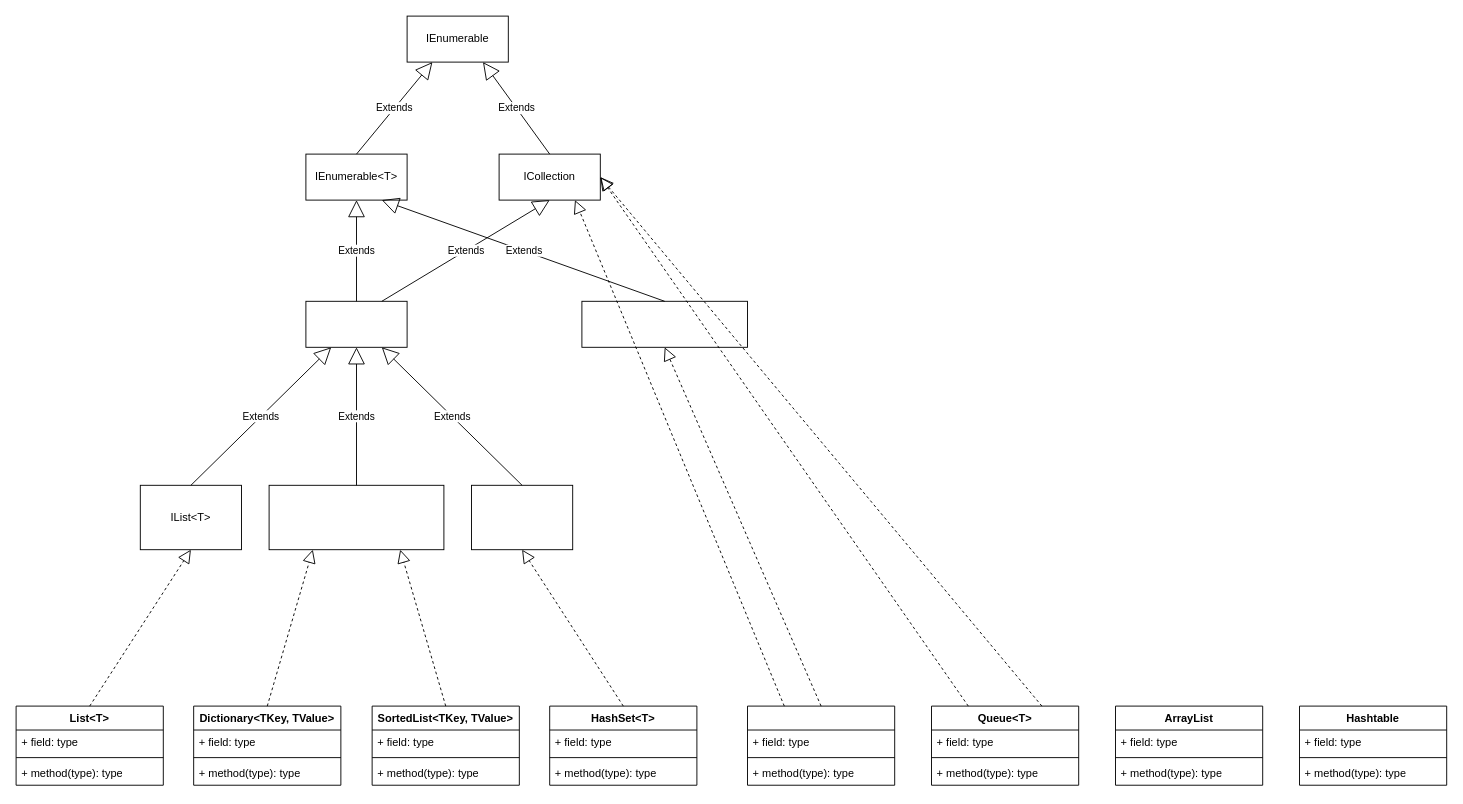
The diagram is 1463 pixels wide and 804 high, and some of its shapes have lost their labels. Each missing label, with the box of its shape:
ICollection<T>: (305, 300, 407, 347)
IDictionary<TKey, TValue> T: KeyValuePair<TKey, TValue>: (268, 484, 444, 550)
IReadOnlyCollection<T>: (581, 300, 748, 347)
ISet<T>: (471, 484, 573, 550)
Stack<T>: (747, 705, 895, 785)
